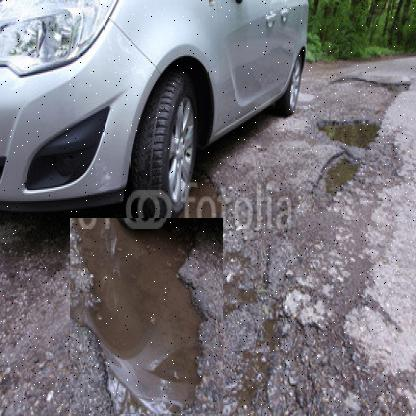pothole_water: (70, 218, 224, 415), (303, 144, 367, 210)
